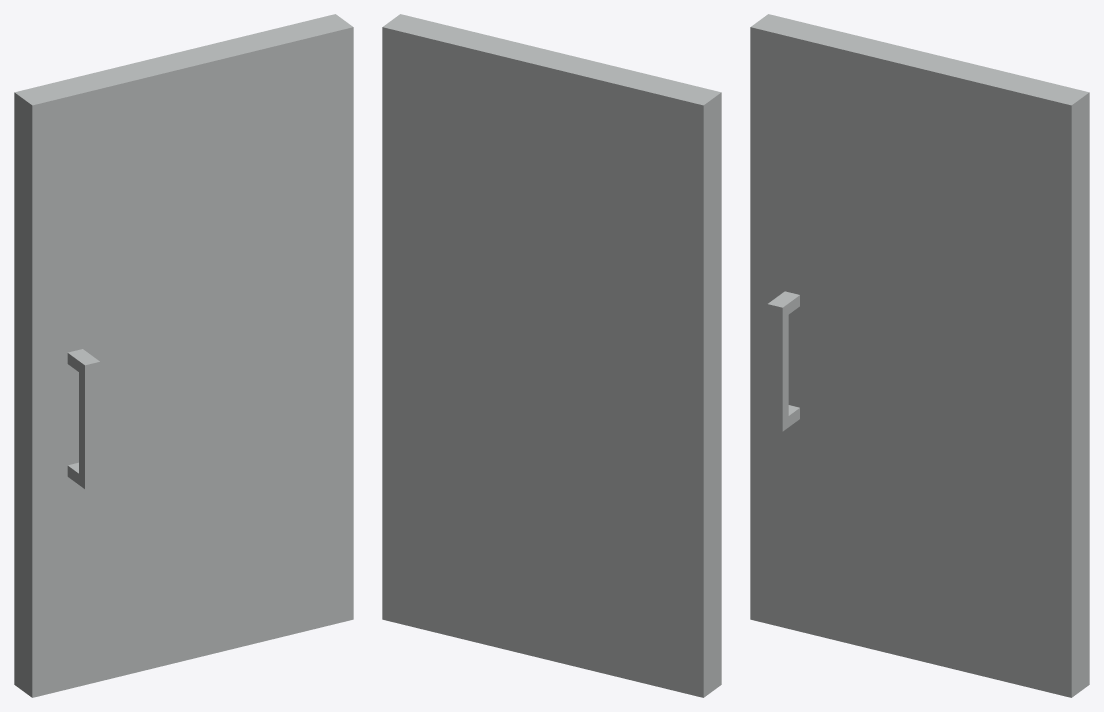
Rendered from porte02.fbx.
3 views of the same model, side by side, from view 1: azimuth 30°, elevation 25°; view 2: azimuth 150°, elevation 25°; view 3: azimuth 330°, elevation 25° (orthographic).
Parts seen in each view (by area): view 1: door02_01; view 2: door02_01; view 3: door02_01.
Boxes of the visible parts, box(x1,y1,x2,y2) form: door02_01: box(14, 14, 353, 697); door02_01: box(382, 14, 721, 697); door02_01: box(750, 14, 1089, 697).
Bounding box in the file's own units: 107 × 189 × 20.65.
Materials: 1 (1 with a texture image).
